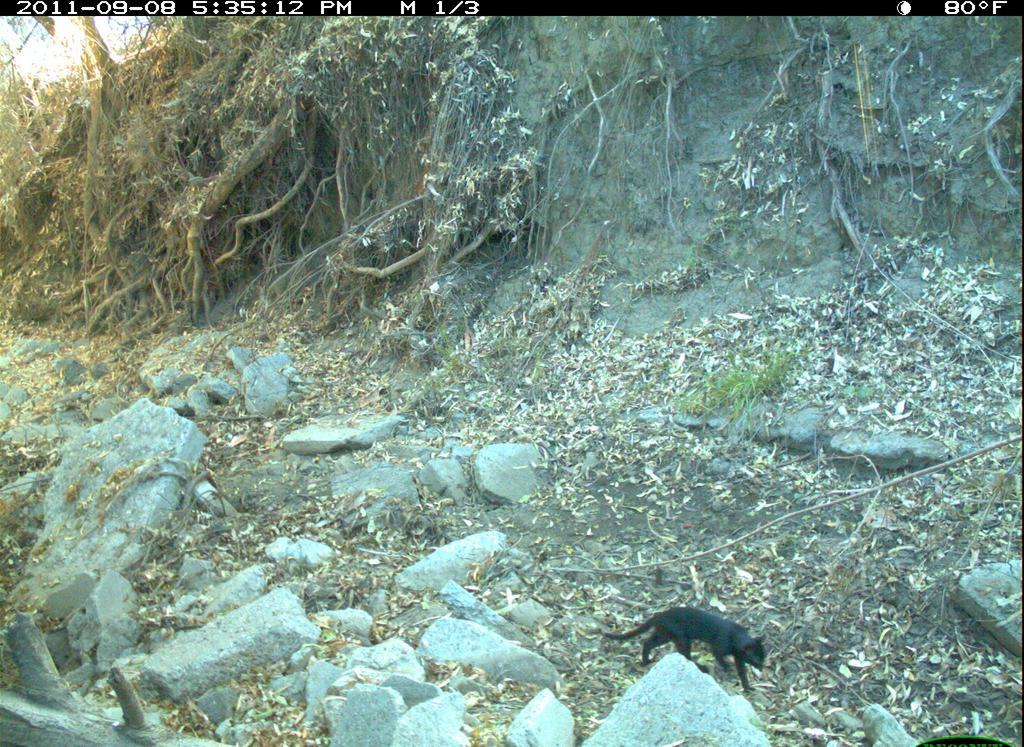cat: (602, 589, 798, 699)
